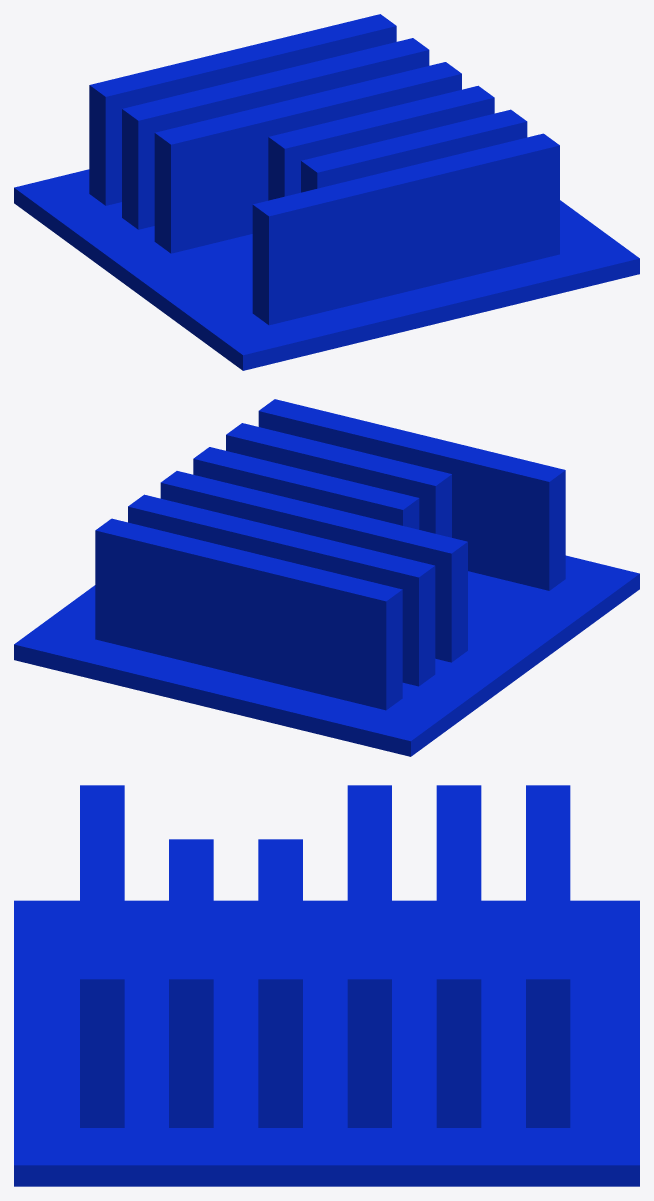
File: perc_1.glb
3 renders of one model, top to bottom at view 1: azimuth 30°, elevation 25°; view 2: azimuth 150°, elevation 25°; view 3: azimuth 270°, elevation 25°, orthographic. The views are drawn at different scales.
Parts seen in each view (by area): view 1: Plane; view 2: Plane; view 3: Plane.
Boxes of the visible parts, box(x1,y1,x2,y2) form: Plane: box(14, 14, 639, 370); Plane: box(14, 399, 639, 756); Plane: box(14, 785, 639, 1186).
Bounding box in the file's own units: 2 × 0.6003 × 2.
